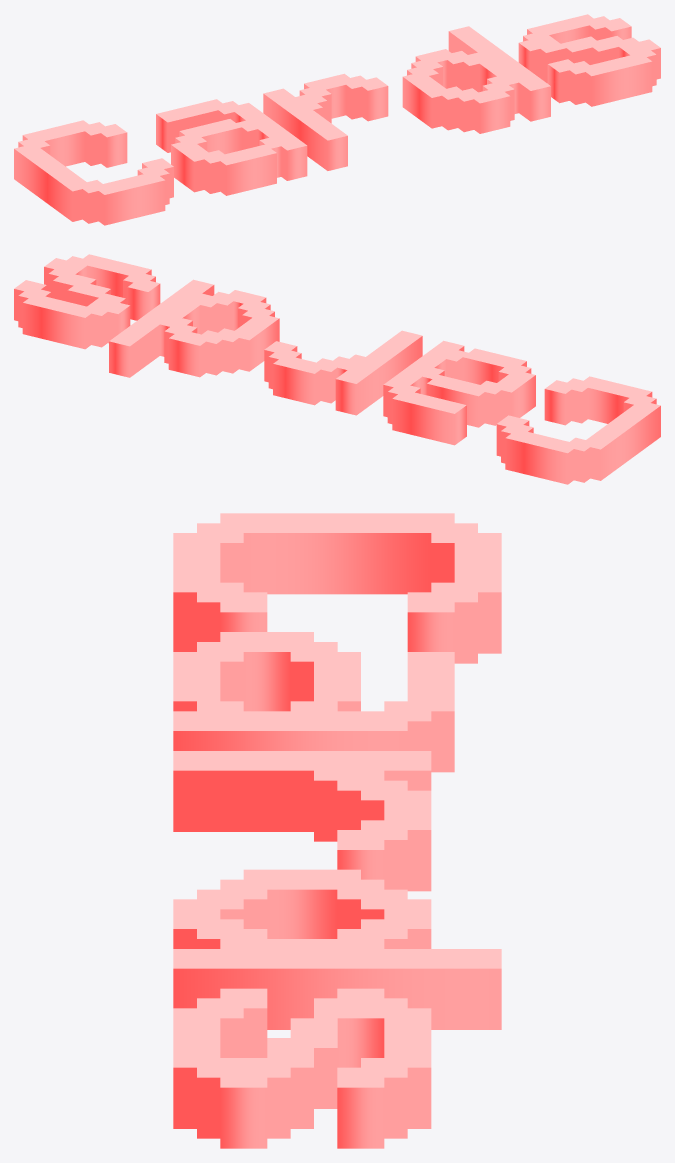
File: cards.glb
3 renders of one model, top to bottom at view 1: azimuth 30°, elevation 25°; view 2: azimuth 150°, elevation 25°; view 3: azimuth 270°, elevation 25°, orthographic. The views are drawn at different scales.
Parts seen in each view (by area): view 1: cards; view 2: cards; view 3: cards.
Boxes of the visible parts, x1=… form: cards: x1=14, y1=14, x2=660, y2=225; cards: x1=14, y1=254, x2=660, y2=484; cards: x1=173, y1=513, x2=501, y2=1148.
Bounding box in the file's own units: 3.22 × 0.16 × 0.7778.
